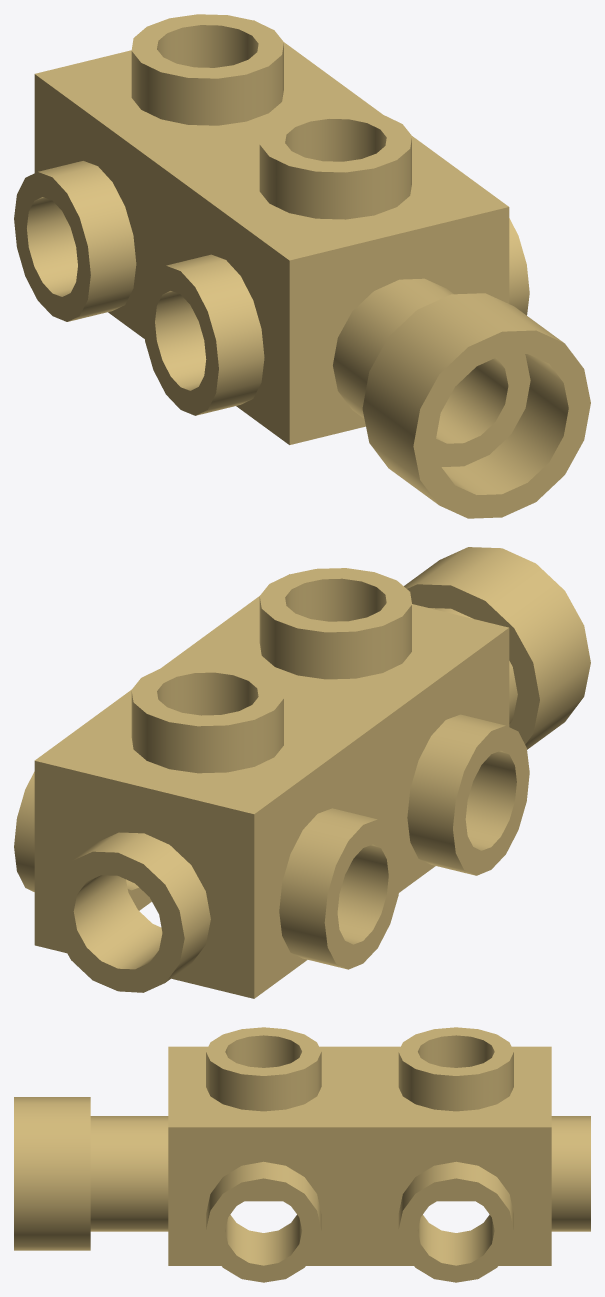
The model's file is Brick_1x2_Camera.fbx.
The picture shows the model from 3 angles, top to bottom: view 1: azimuth 30°, elevation 25°; view 2: azimuth 150°, elevation 25°; view 3: azimuth 270°, elevation 25°; orthographic projection. The views are drawn at different scales.
Visible parts, largest first — view 1: Brick_1x2_Camera; view 2: Brick_1x2_Camera; view 3: Brick_1x2_Camera.
Part boxes in pixels (bbox=[...]): Brick_1x2_Camera: bbox=[14, 14, 590, 518]; Brick_1x2_Camera: bbox=[14, 547, 590, 998]; Brick_1x2_Camera: bbox=[14, 1027, 590, 1282].
Bounding box in the file's own units: 23.98 × 11.2 × 8.8.
